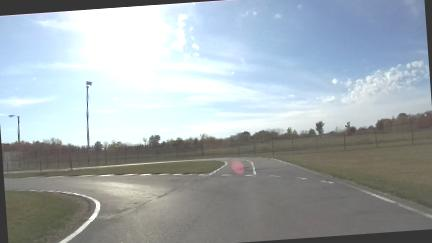Grass: (72, 129, 431, 167), (270, 145, 431, 207), (5, 191, 87, 242), (4, 161, 223, 177)
Lane: (4, 158, 431, 242)
